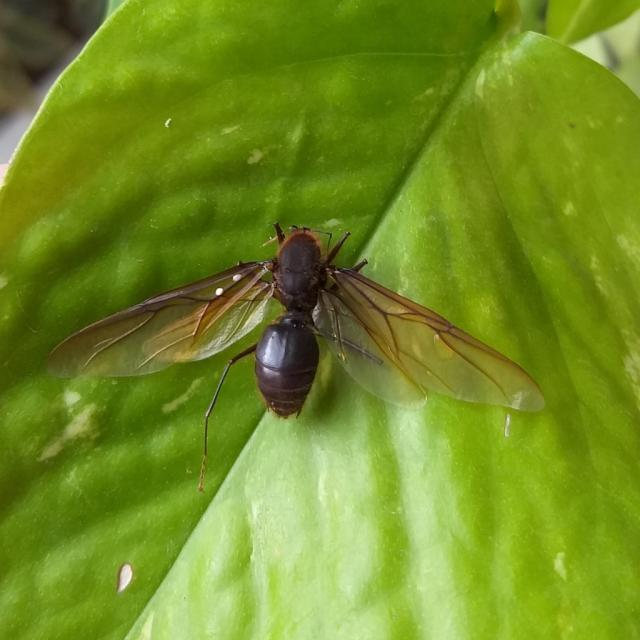Dead-Male-Alate: (46, 221, 545, 493)
